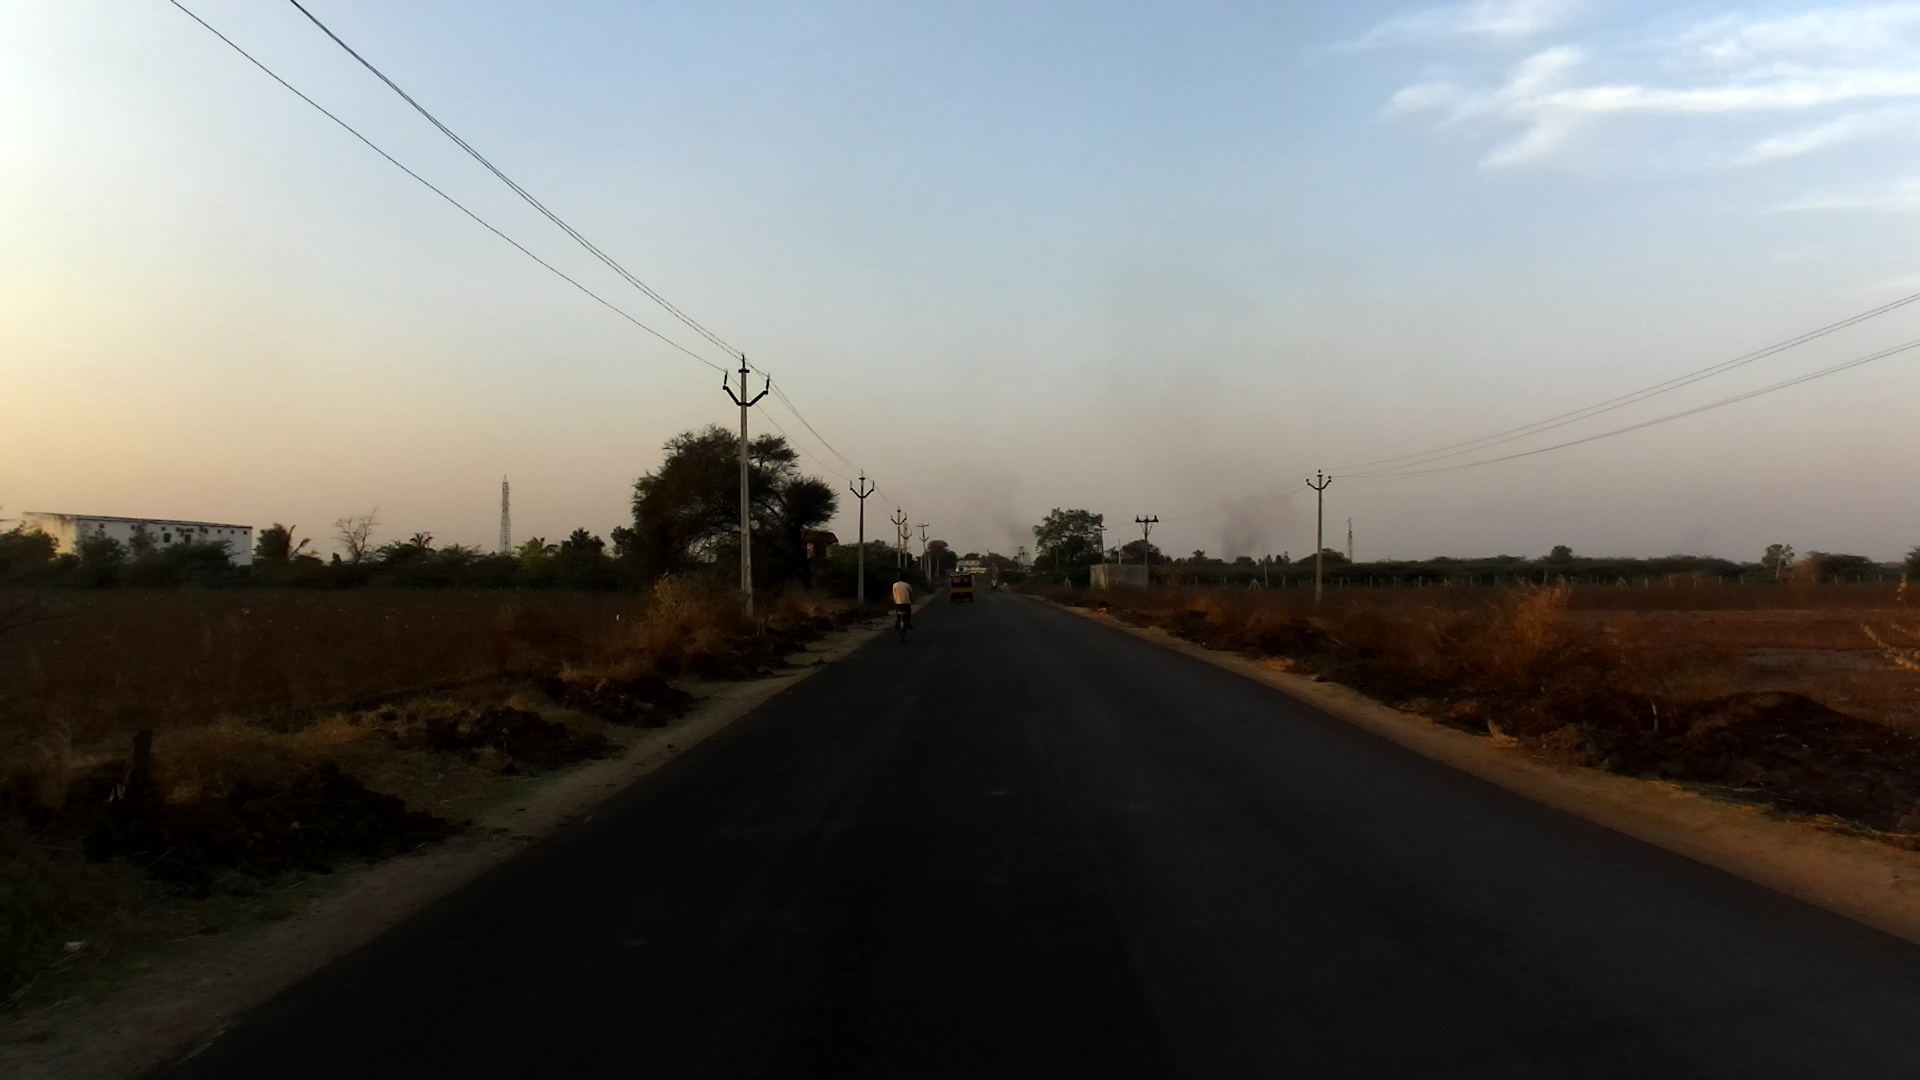autorickshaw: (946, 565, 975, 604)
bicycle: (893, 598, 914, 646)
motorcycle: (991, 582, 997, 593)
rider: (889, 573, 918, 631), (992, 576, 1000, 589)
